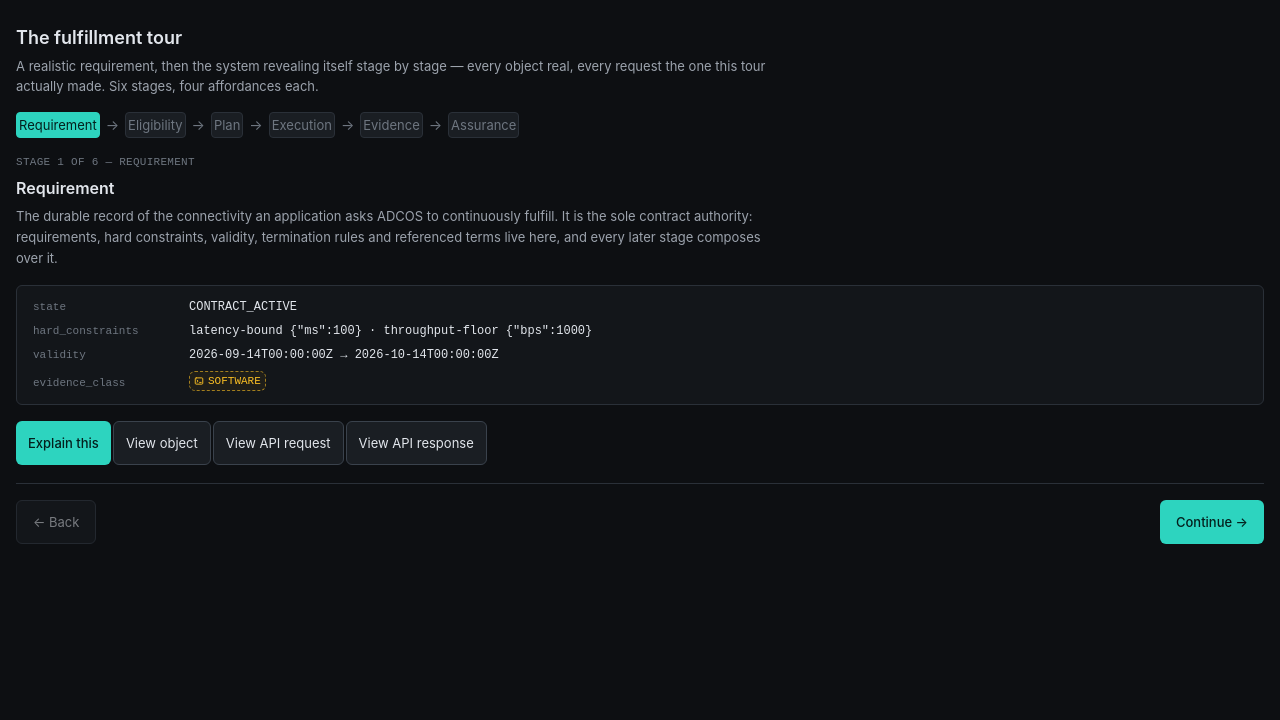
Test: The fulfillment tour — the end and the honesty positions › ends with the evidence-class honesty note and the next paths
Expected: the element with test id "tour-stage" is shown, x1=16 y1=154 x2=1264 y2=544
Expected: the heading "Requirement" is shown, x1=16 y1=178 x2=114 y2=198
What coordinates should you click on to do the following:
click the button with test id "tour-continue"
I would click on:
 (1212, 522)
Its box is x1=1160 y1=500 x2=1264 y2=544.
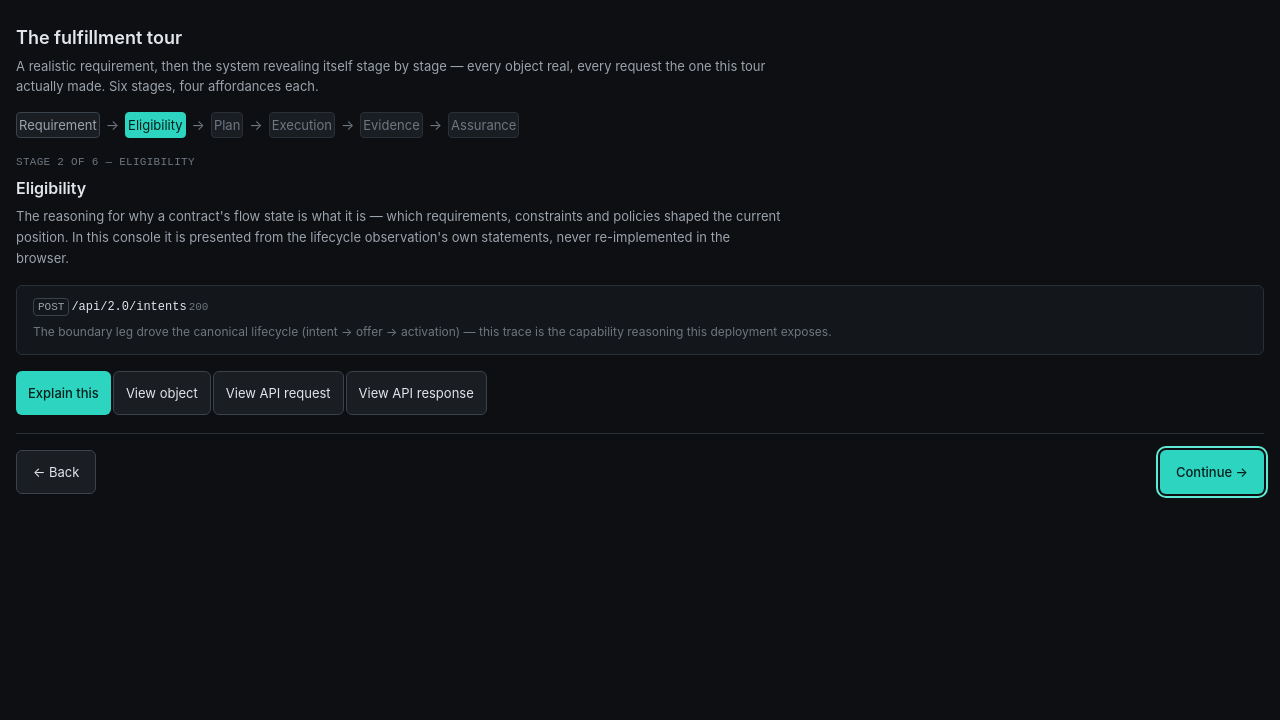
What coordinates should you click on to do the following:
click the button with test id "tour-continue"
I would click on:
 (1212, 472)
Its box is x1=1160 y1=450 x2=1264 y2=494.
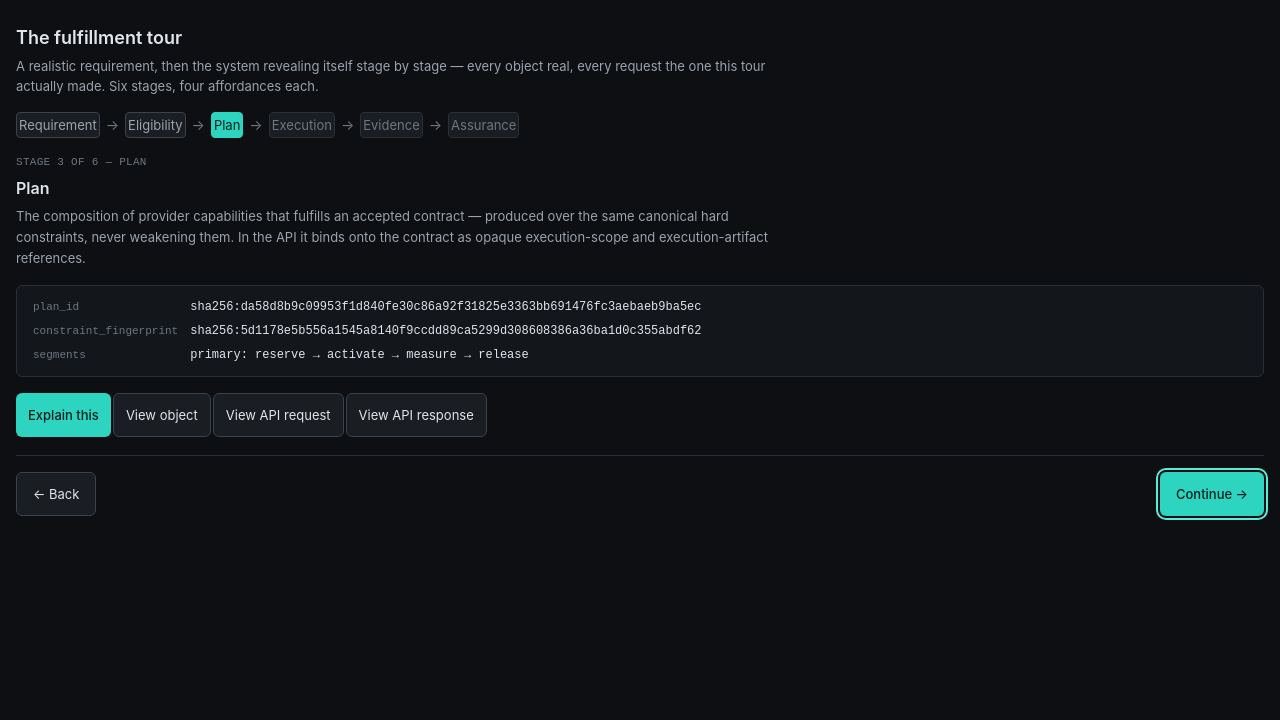
What coordinates should you click on to do the following:
click the button with test id "tour-continue"
I would click on:
 (1212, 494)
Its box is x1=1160 y1=472 x2=1264 y2=516.
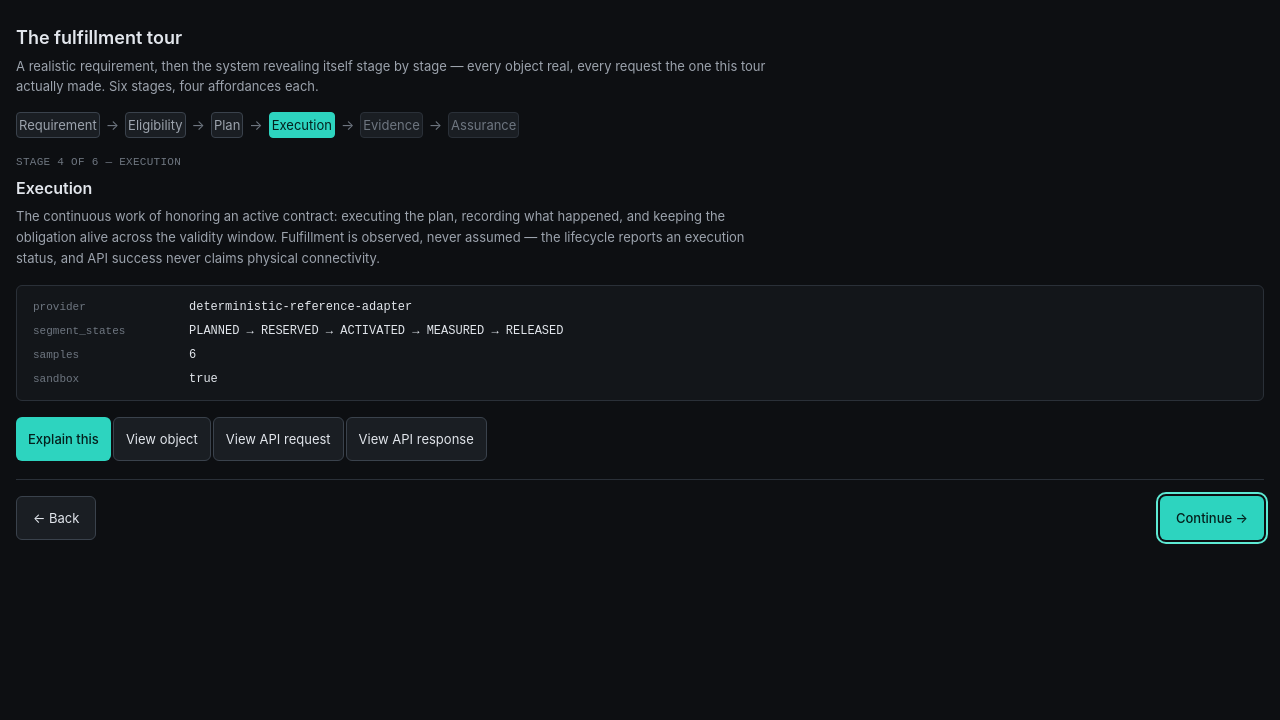
What coordinates should you click on to do the following:
click the button with test id "tour-continue"
I would click on:
 (1212, 518)
Its box is x1=1160 y1=496 x2=1264 y2=540.
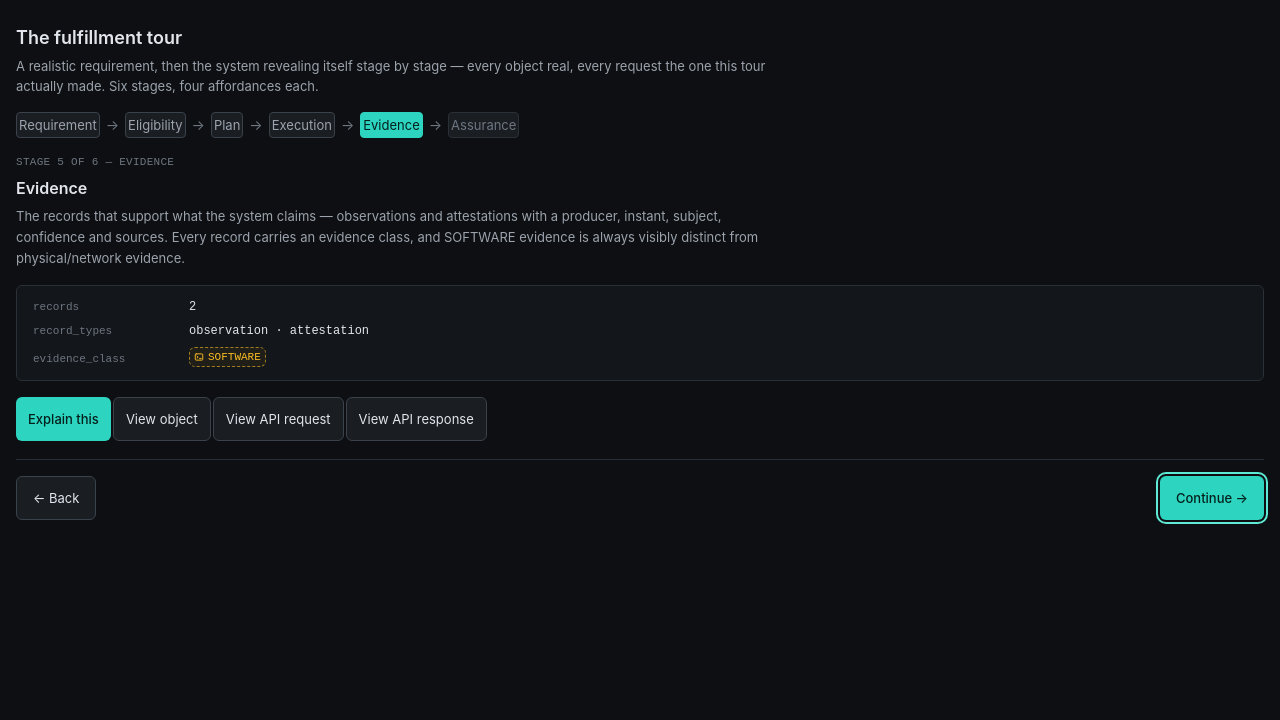
What coordinates should you click on to do the following:
click the button with test id "tour-continue"
I would click on:
 (1212, 498)
Its box is x1=1160 y1=476 x2=1264 y2=520.
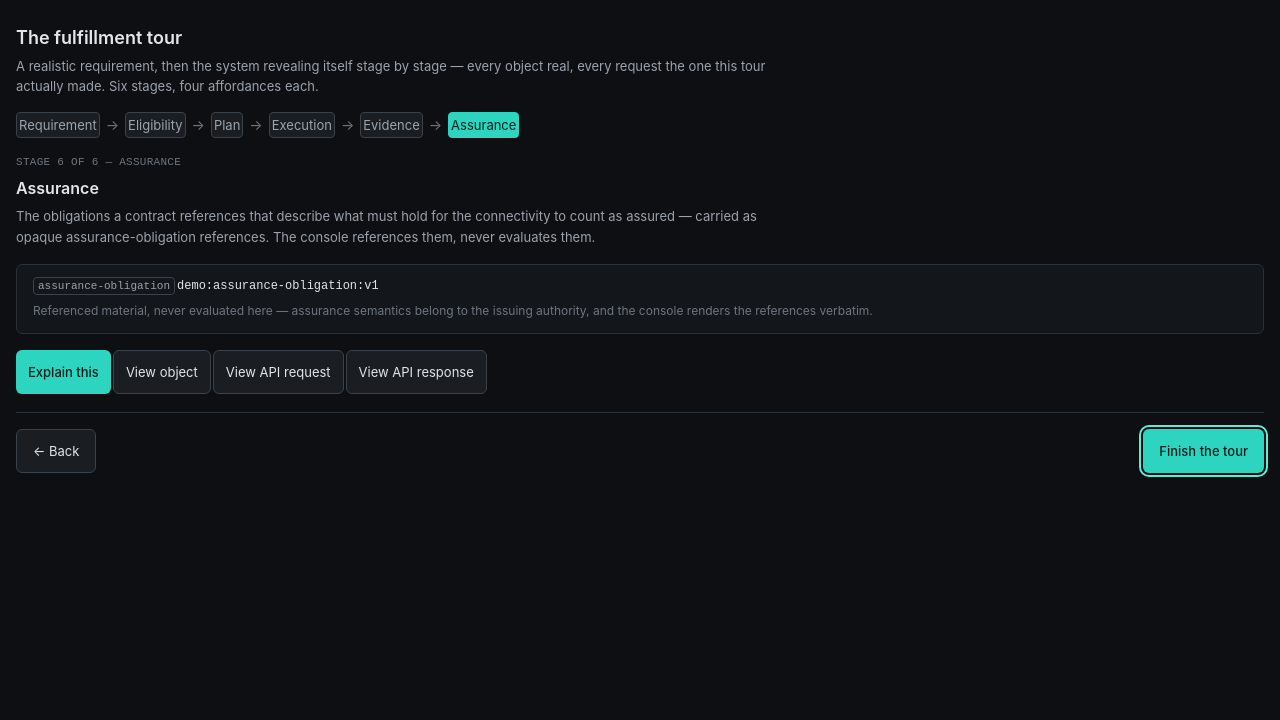
What coordinates should you click on to do the following:
click the button with test id "tour-continue"
I would click on:
 (1204, 451)
Its box is x1=1143 y1=429 x2=1264 y2=473.
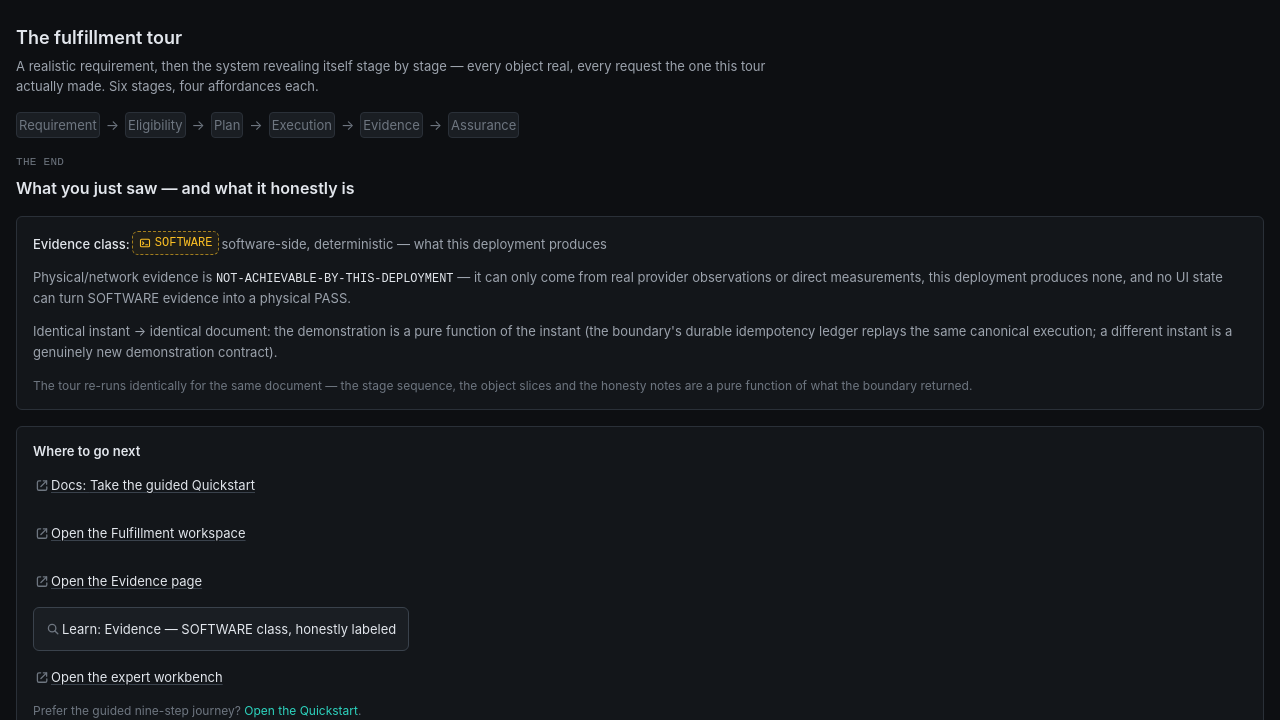
Now the element with test id "evidence-badge" reads "SOFTWARE", box x1=155 y1=236 x2=212 y2=250
Now the text "NOT-ACHIEVABLE-BY-THIS-DEPLOYMENT" is shown, box x1=216 y1=272 x2=454 y2=286
Now the text "Identical instant → identical document" is shown, box x1=33 y1=323 x2=1232 y2=360
